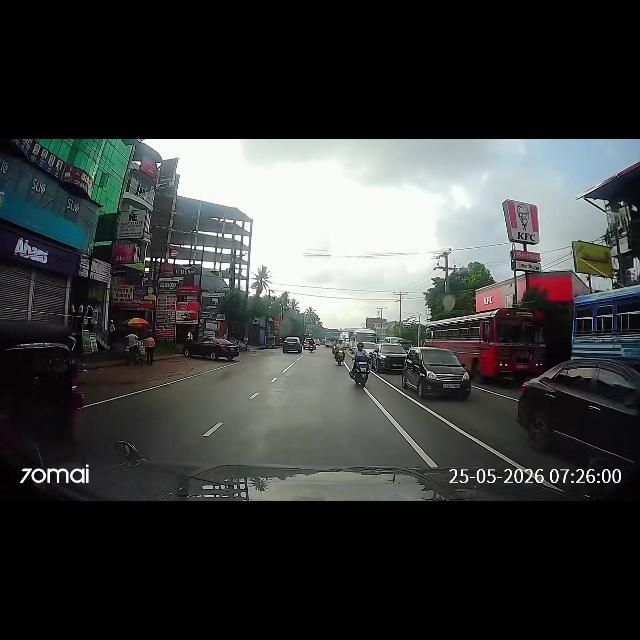broken_line: (204, 375, 296, 457)
bus: (468, 306, 538, 374), (581, 296, 637, 359)
car: (542, 368, 626, 458), (414, 352, 464, 394), (382, 346, 401, 372), (284, 340, 300, 352)
double_solid_line: (366, 419, 502, 467)
helmet: (358, 343, 366, 349)
motorcycle: (354, 358, 370, 384), (336, 348, 346, 362)
number_plate: (441, 384, 463, 392)
person: (356, 342, 366, 371), (338, 338, 344, 354)
three_wheeler: (13, 332, 85, 460)
